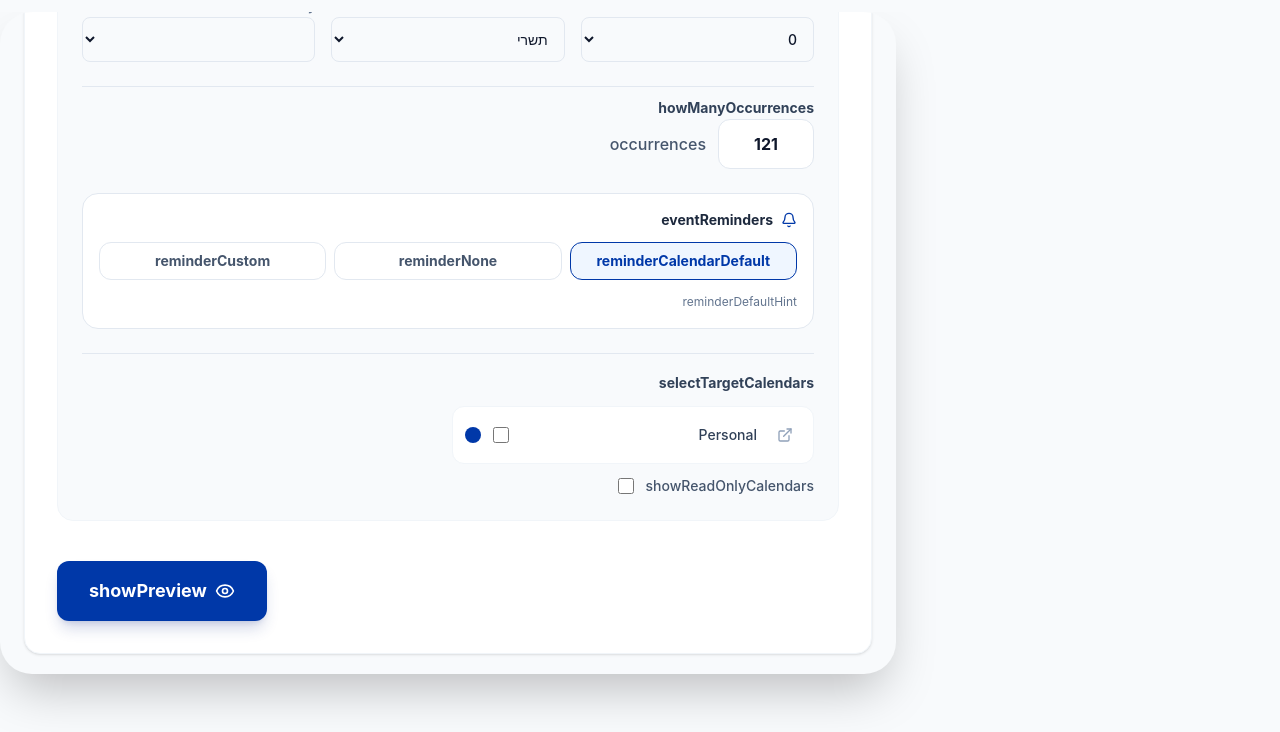
AddEvent Component › should hide read-only calendars by default and reveal them as disabled when toggled
(page scrolled)
Expected: the text "Personal" is shown, [699,426,757,443]
Expected: the text "Team Calendar" is not shown
Click the checkbox labelled "showReadOnlyCalendars" at (626,486), box [618,478,634,494]
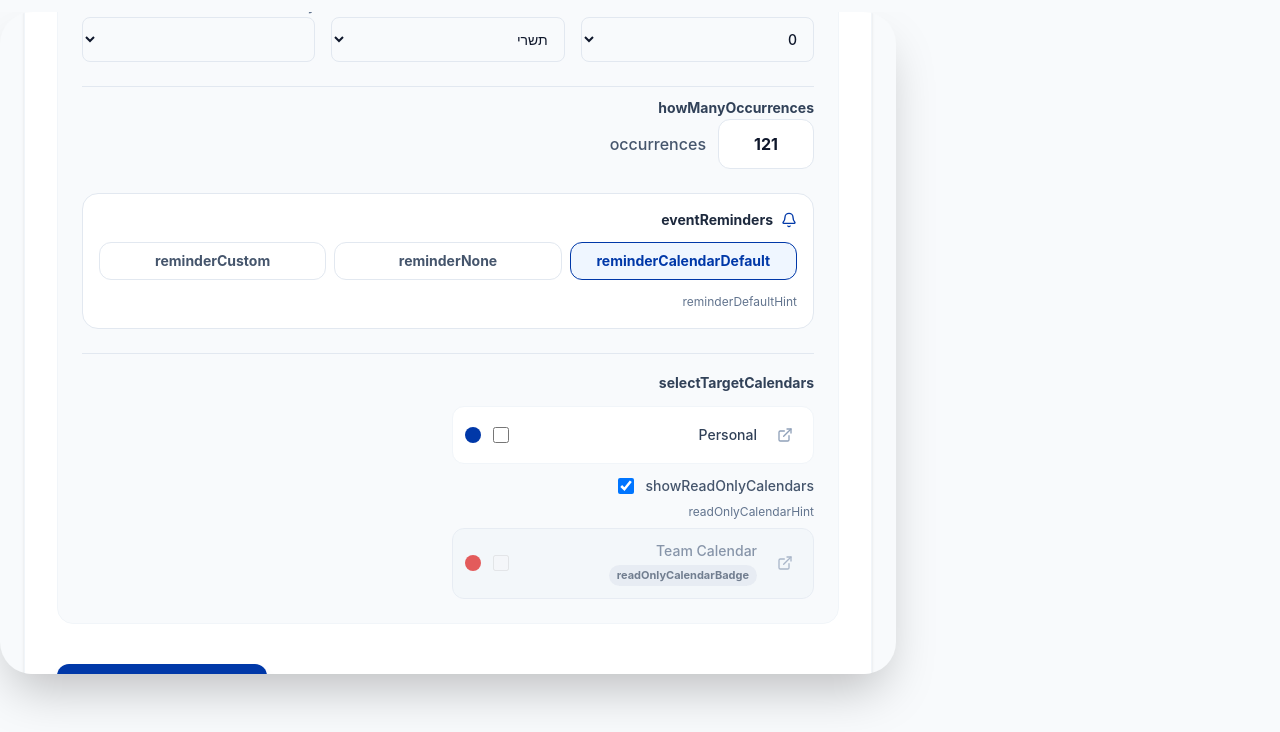
Now the text "Team Calendar" is shown, box [656,542,757,559]
Now the text "readOnlyCalendarBadge" is shown, box [609,565,757,586]
